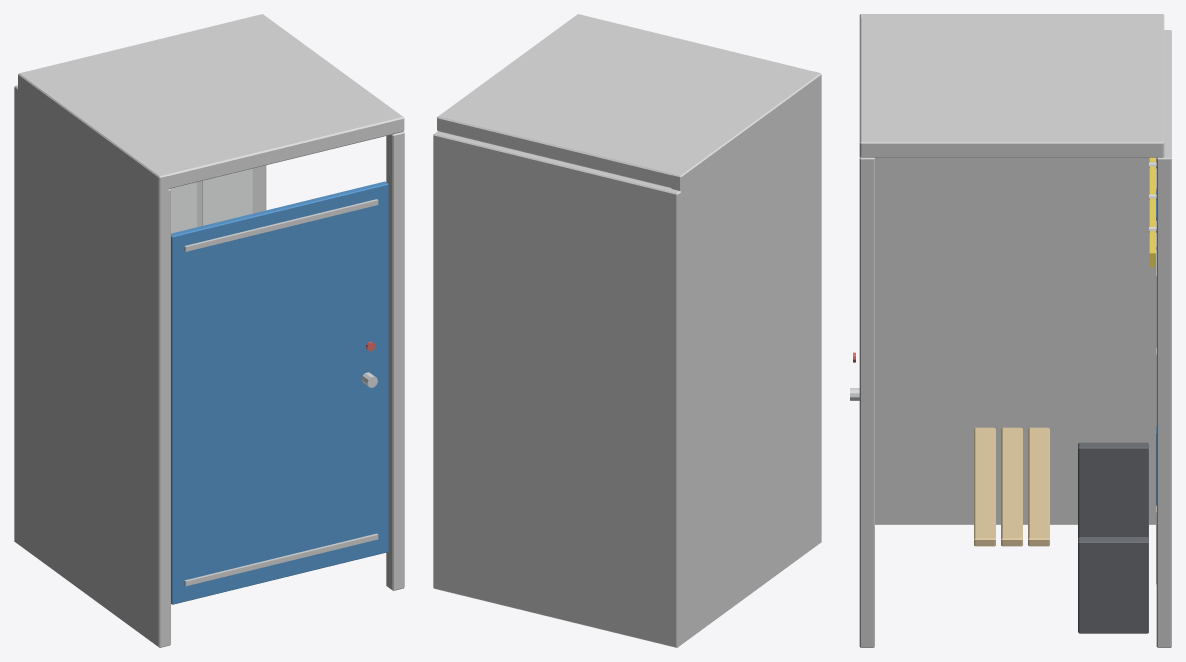
Rendered from public-swimming-baths-and-poolside-changing-cubicle-mo-b6122d28__35263.glb.
The picture shows the model from 3 angles, left to right: view 1: azimuth 30°, elevation 25°; view 2: azimuth 150°, elevation 25°; view 3: azimuth 270°, elevation 25°; orthographic projection. The views are drawn at different scales.
Parts seen in each view (by area): view 1: changing-cubicle-module, cubicle-door/blue, cubicle-door/white; view 2: changing-cubicle-module; view 3: changing-cubicle-module.
Boxes of the visible parts, box(x1,y1,x2,y2) form: changing-cubicle-module: box(14, 14, 404, 647); cubicle-door/blue: box(171, 181, 388, 604); cubicle-door/white: box(184, 199, 378, 586); changing-cubicle-module: box(433, 14, 821, 647); changing-cubicle-module: box(859, 14, 1171, 647).
Bounding box in the file's own units: 1.2 × 2.2 × 1.27.
